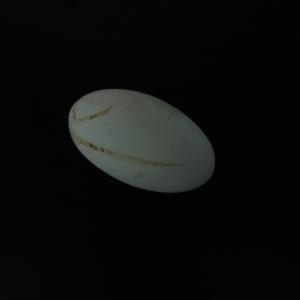Egg: (64, 88, 247, 198)
